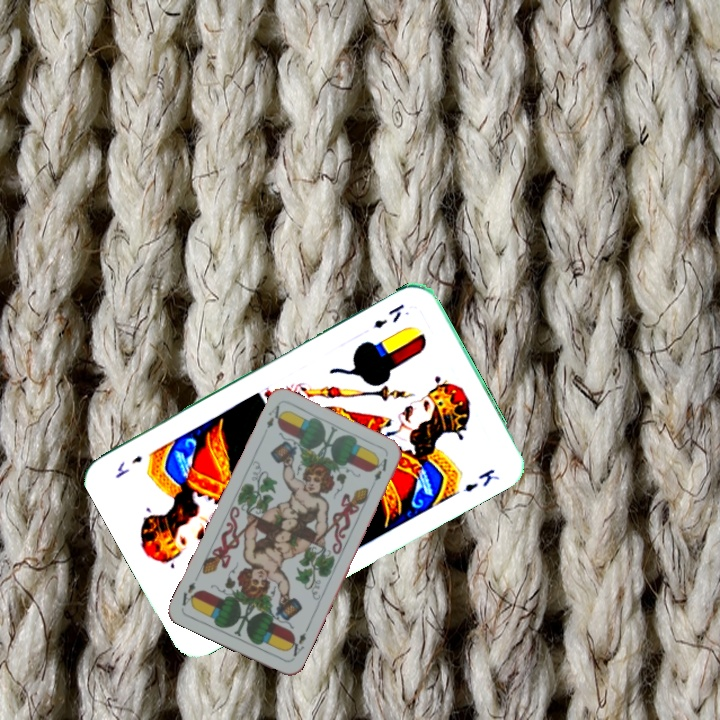EA: (284, 623, 311, 659), (262, 401, 287, 431)
EK: (369, 300, 407, 331)
